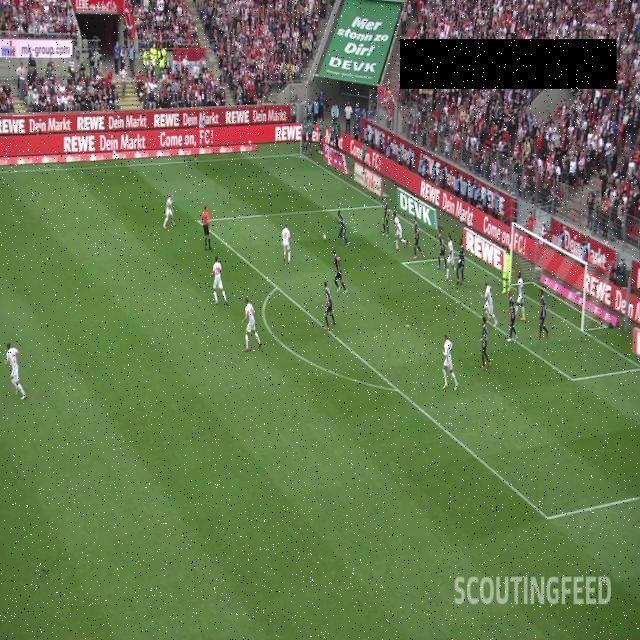Ball: (323, 233, 327, 240)
Corner: (299, 114, 304, 155)
GoalKeeper: (501, 246, 512, 294)
Referee: (201, 205, 213, 251)
TEAM 1: (5, 341, 28, 401), (241, 296, 262, 352), (209, 254, 229, 306), (442, 334, 458, 391), (478, 282, 496, 324), (443, 234, 457, 282), (393, 210, 409, 252), (163, 192, 177, 230), (280, 222, 292, 264), (516, 272, 526, 320)
TEAM 2: (478, 314, 492, 370), (332, 248, 348, 296), (536, 290, 550, 338), (506, 290, 518, 342), (324, 280, 336, 332), (412, 215, 424, 259), (456, 238, 466, 286), (338, 210, 350, 247), (437, 230, 447, 270), (382, 198, 390, 236)
